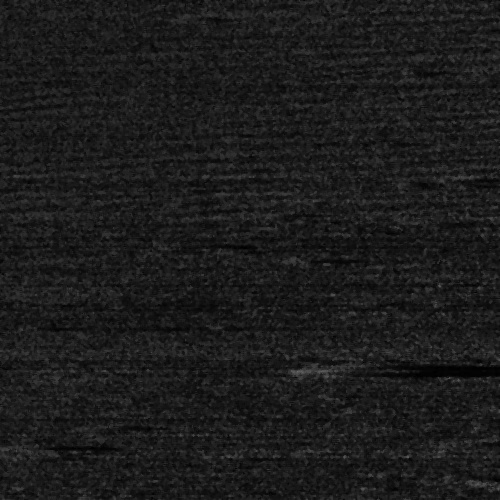object: (264, 359, 389, 376), (453, 475, 500, 486)
shadow: (326, 359, 500, 376), (485, 475, 500, 486)
